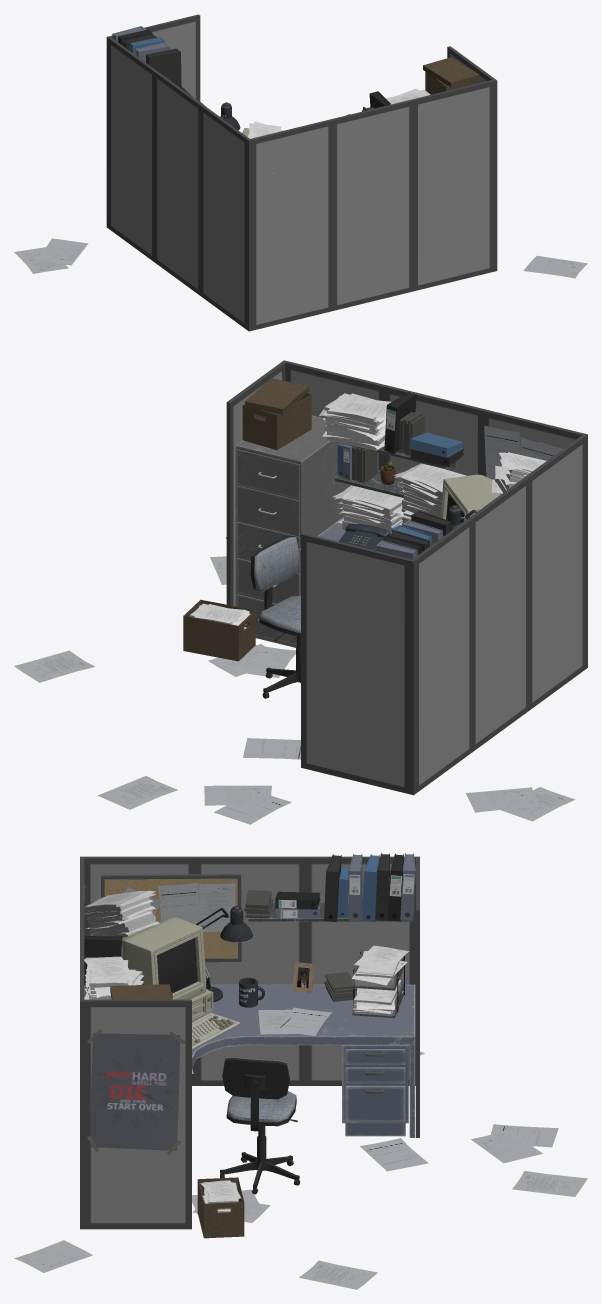
File: office.gltf
3 views of the same model, one above another, from view 1: azimuth 30°, elevation 25°; view 2: azimuth 150°, elevation 25°; view 3: azimuth 270°, elevation 25° (orthographic). The views are drawn at different scales.
Parts seen in each view (by area): view 1: Object_22, Object_32, Object_26, Object_29, Object_36, Object_33, Object_27, Object_28; view 2: Object_22, Object_6, Object_36, Object_26, Object_32, Object_33, Object_18, Object_34, Object_9, Object_31, Object_30, Object_29 (+4 smaller); view 3: Object_22, Object_2, Object_19, Object_36, Object_4, Object_18, Object_9, Object_33, Object_34, Object_14, Object_32, Object_26 (+11 smaller).
Part boxes in pixels (<box>): Object_22: <box>106,14,497,331</box>; Object_32: <box>35,238,587,278</box>; Object_26: <box>423,57,479,94</box>; Object_29: <box>122,34,181,85</box>; Object_36: <box>248,88,430,173</box>; Object_33: <box>14,247,68,273</box>; Object_27: <box>112,26,169,61</box>; Object_28: <box>118,29,390,108</box>; Object_22: <box>226,360,587,795</box>; Object_6: <box>235,415,350,647</box>; Object_36: <box>189,393,546,629</box>; Object_26: <box>183,378,311,661</box>; Object_32: <box>204,441,562,812</box>; Object_33: <box>14,644,575,821</box>; Object_18: <box>250,535,300,698</box>; Object_34: <box>214,425,556,824</box>; Object_9: <box>440,474,500,522</box>; Object_31: <box>352,411,462,528</box>; Object_30: <box>337,432,463,546</box>; Object_29: <box>389,448,464,552</box>; Object_22: <box>80,856,419,1229</box>; Object_2: <box>90,1033,180,1150</box>; Object_19: <box>192,984,415,1137</box>; Object_36: <box>84,890,409,1212</box>; Object_4: <box>342,1045,408,1136</box>; Object_18: <box>220,1057,299,1194</box>; Object_9: <box>122,917,206,999</box>; Object_33: <box>192,883,587,1289</box>; Object_34: <box>158,882,558,1171</box>; Object_14: <box>101,874,241,962</box>; Object_32: <box>14,884,542,1272</box>; Object_26: <box>110,984,244,1238</box>.
Size of the model in its own units: 18.84 by 7.72 by 17.19.
32 materials, 32 textured.
